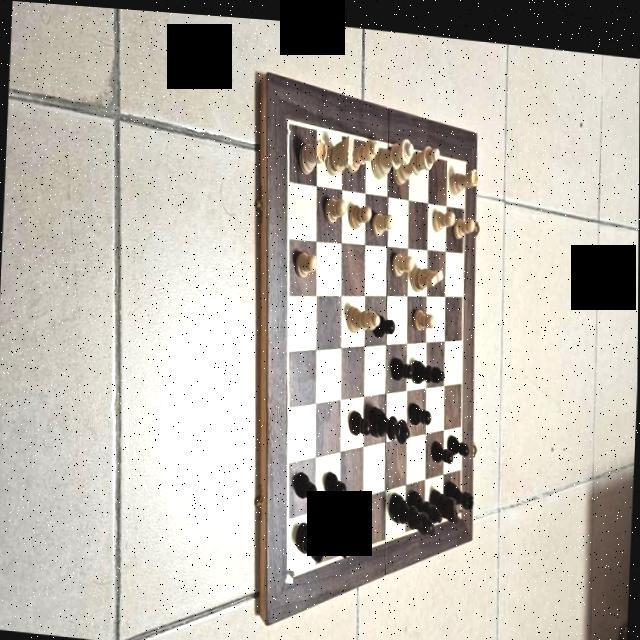chess-table-corners: (283, 110, 293, 130), (282, 564, 294, 578), (462, 151, 468, 159), (458, 502, 462, 511)
